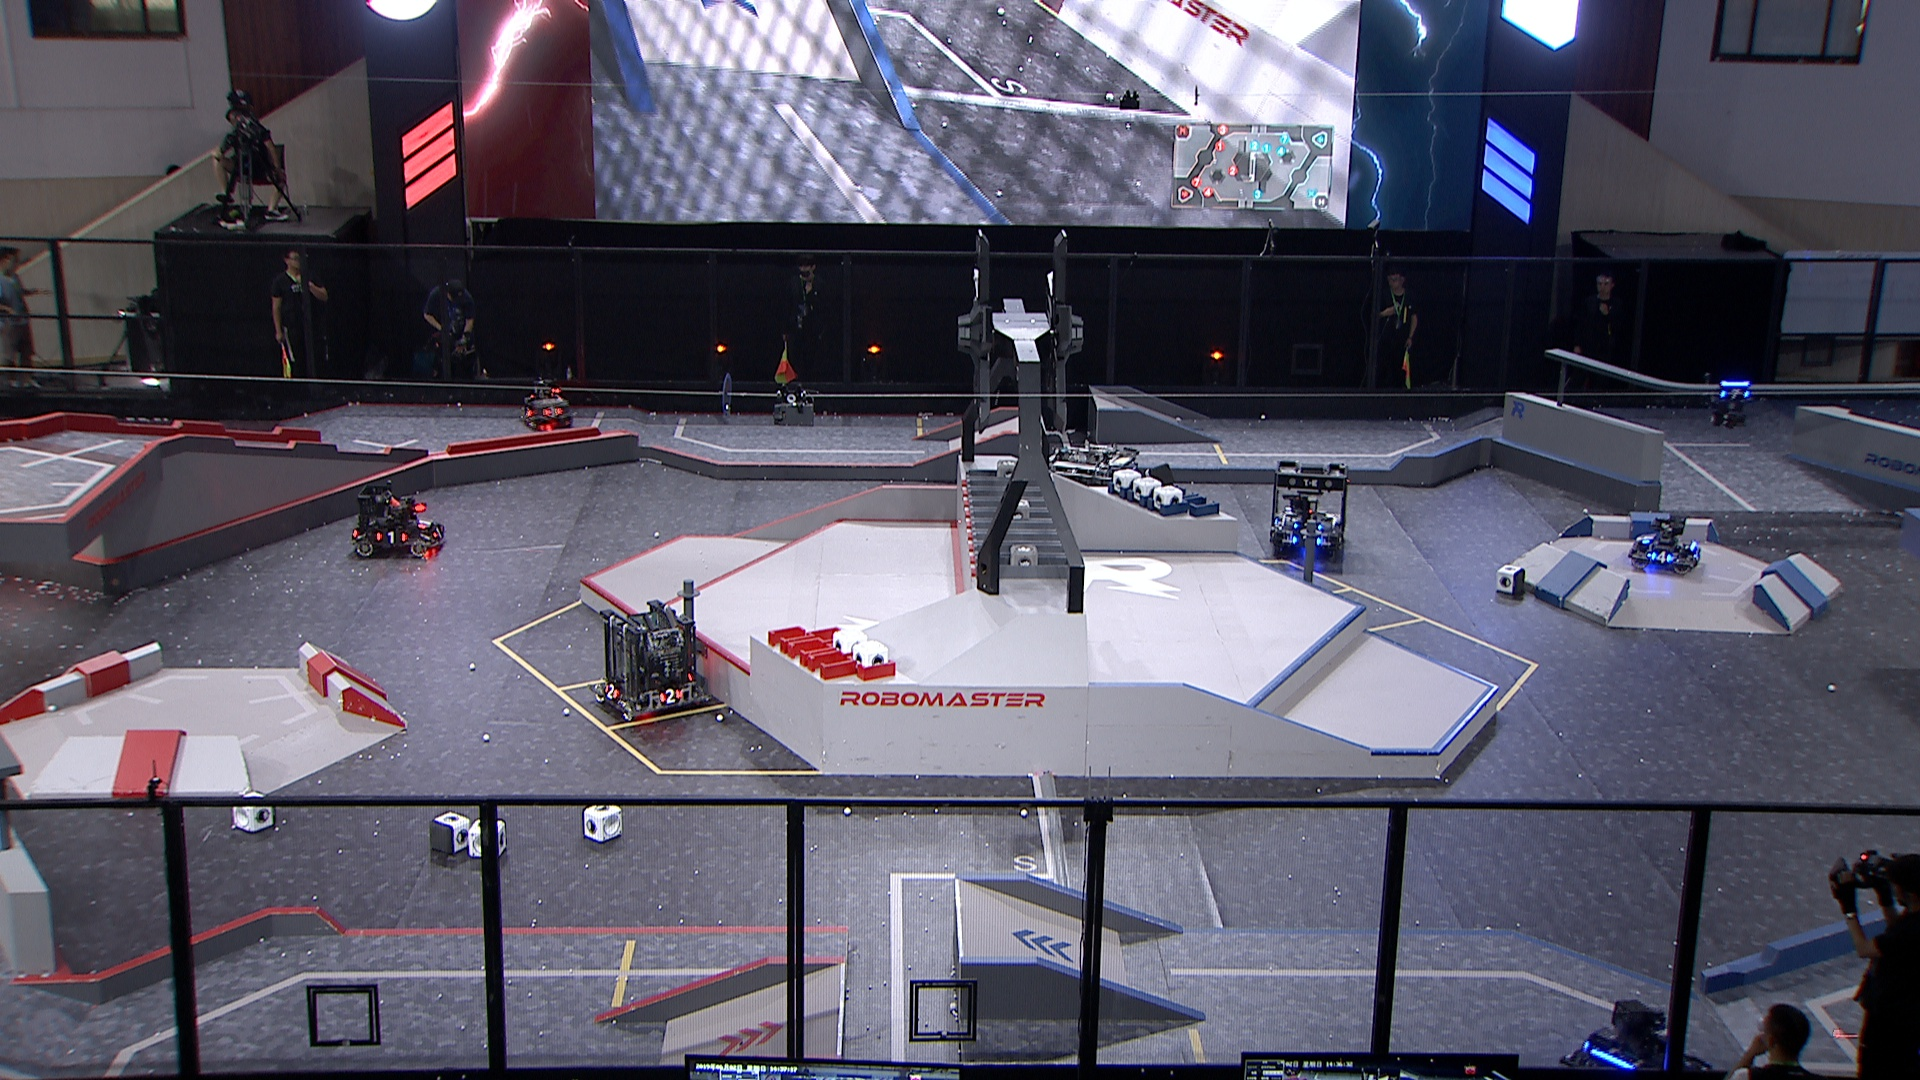armor: (378, 529, 406, 545), (657, 687, 680, 703), (1722, 386, 1747, 400), (1650, 551, 1673, 564), (603, 683, 622, 699), (543, 405, 564, 415), (520, 404, 534, 418), (1638, 531, 1652, 546), (418, 514, 430, 531), (429, 526, 442, 541)
car: (589, 597, 712, 723), (1035, 433, 1149, 531), (1560, 996, 1685, 1080), (1269, 458, 1353, 564), (348, 481, 448, 564), (1629, 509, 1702, 575), (517, 377, 580, 433)
watcher: (1706, 368, 1756, 427)
